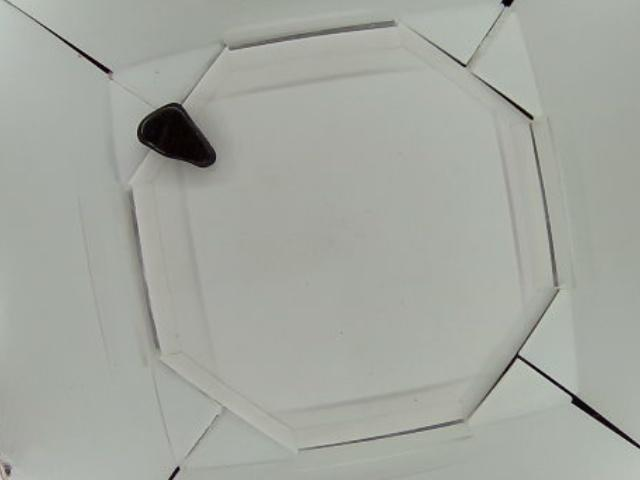Pebble: (135, 101, 217, 171)
